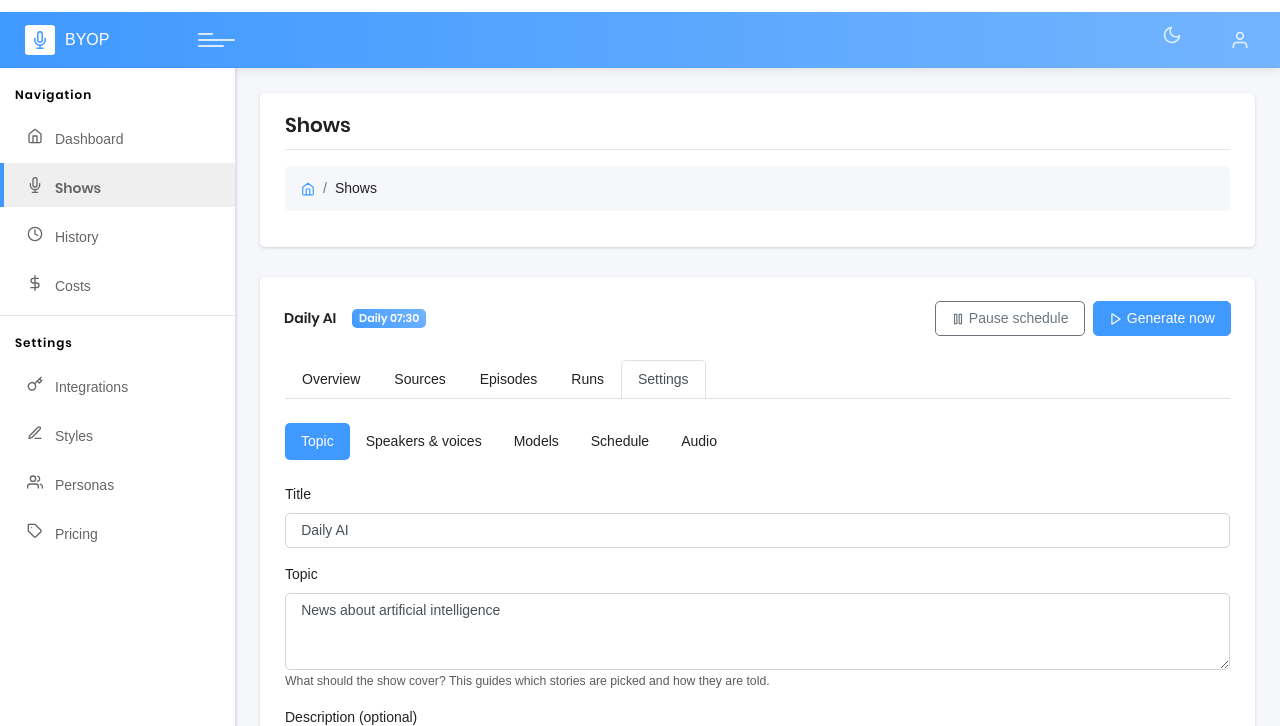
Test: show detail page › settings › turns a schedule on and off
The width and height of the screenshot is (1280, 726).
Expected: the field labelled "Title" is shown, 285,513 -> 1230,548
Click the button "Schedule": [620, 442] box 575,423 -> 665,460
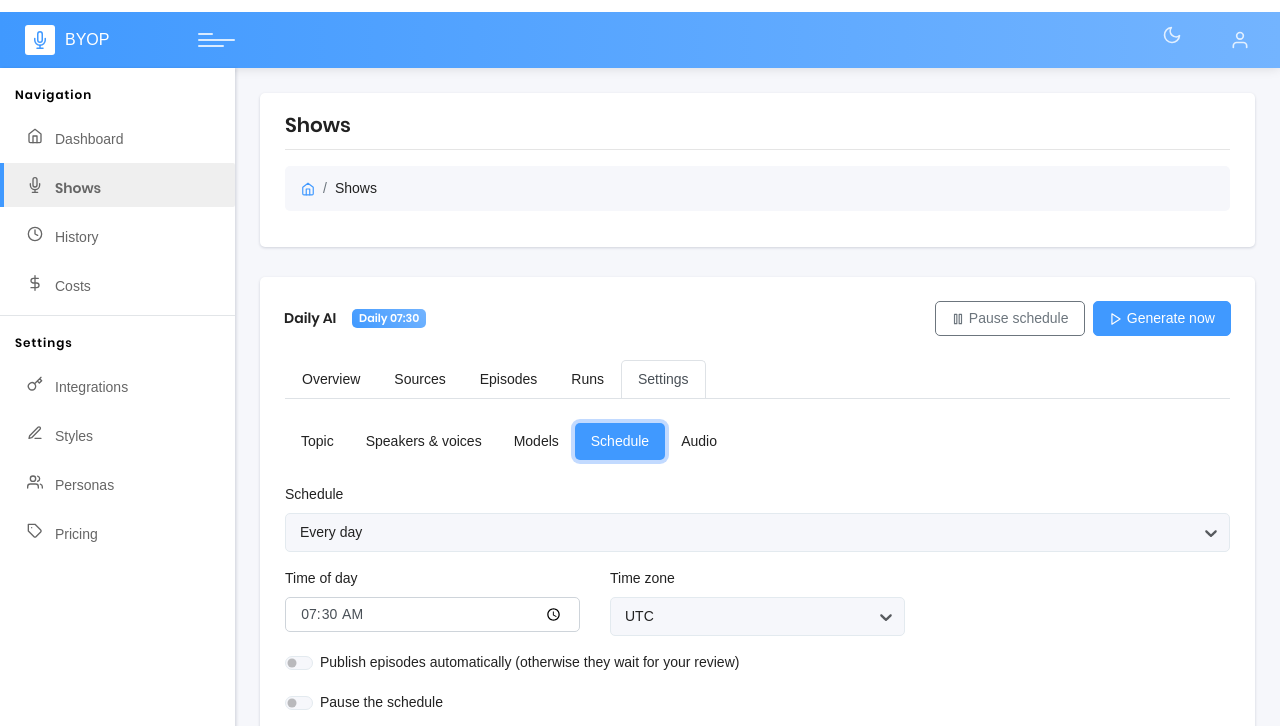
Expected: the time field labelled "Time of day" holds "07:30", 285,597 -> 580,632
Click the dropdown labelled "Schedule": [302, 532] box 300,522 -> 304,543
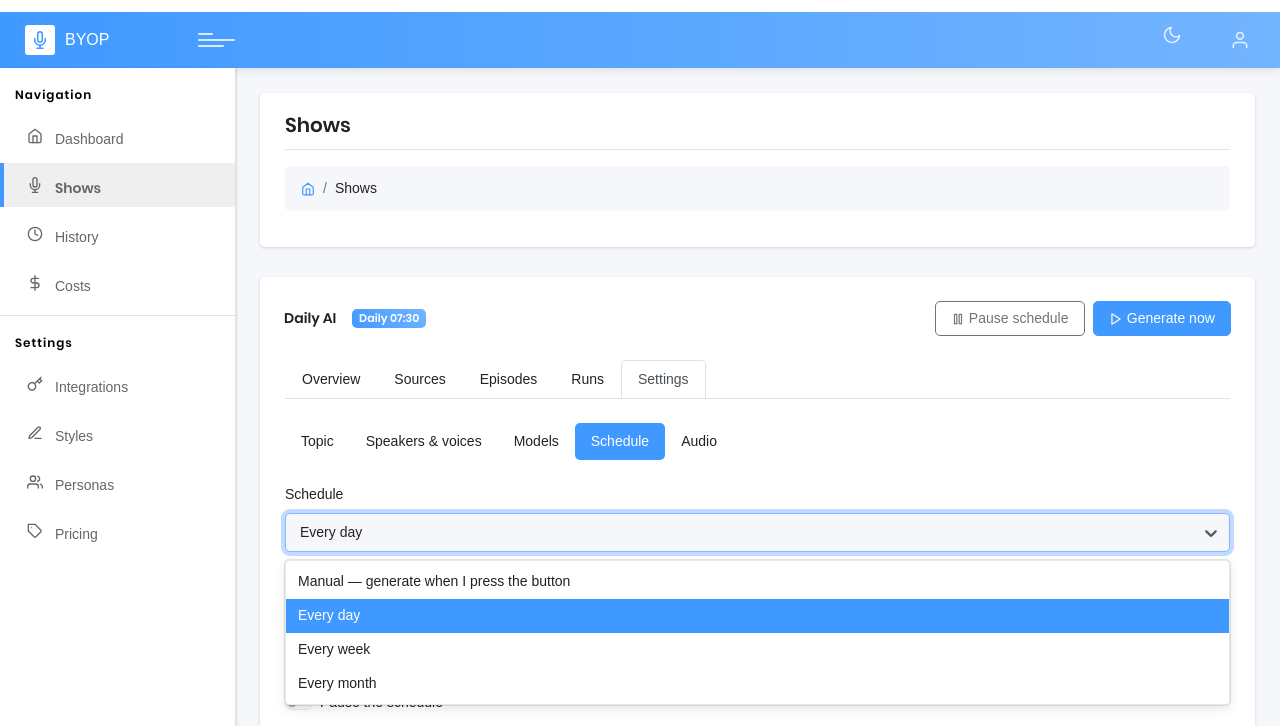
Click the option "Manual — generate when I press the button": [434, 581] box 298,573 -> 570,589
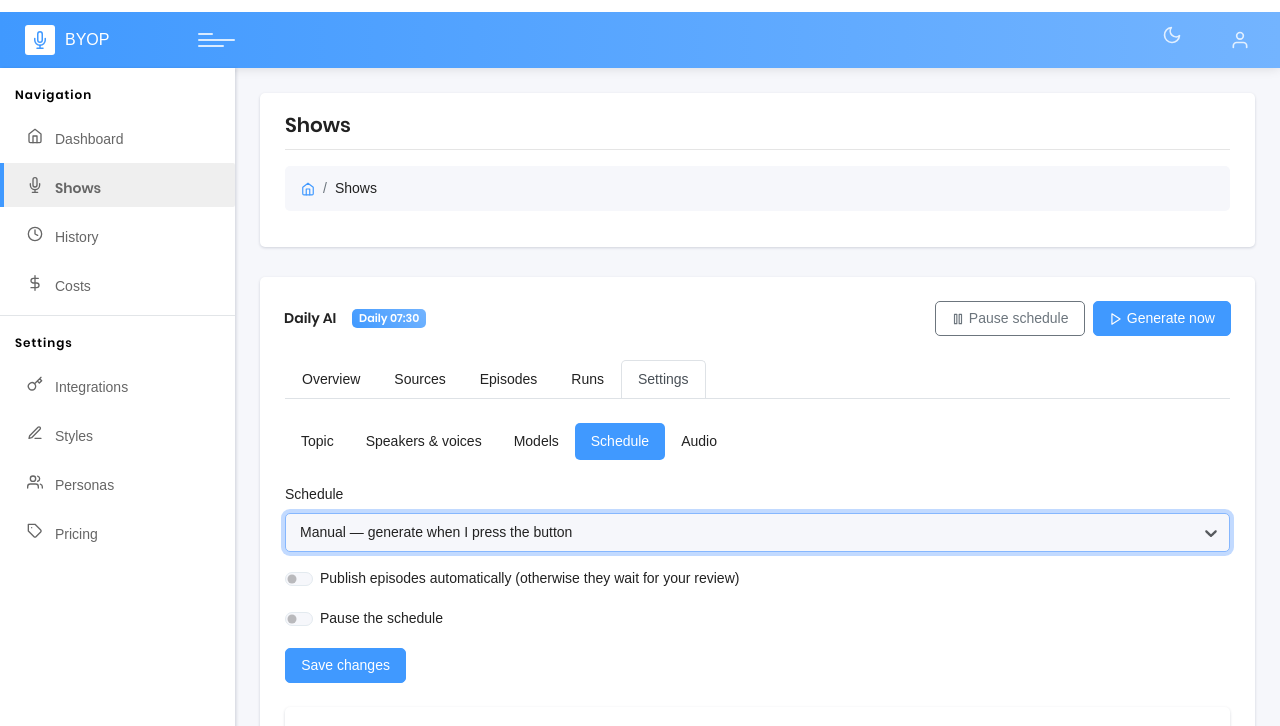
Click the switch labelled "Pause the schedule": [299, 618] box 285,612 -> 313,626
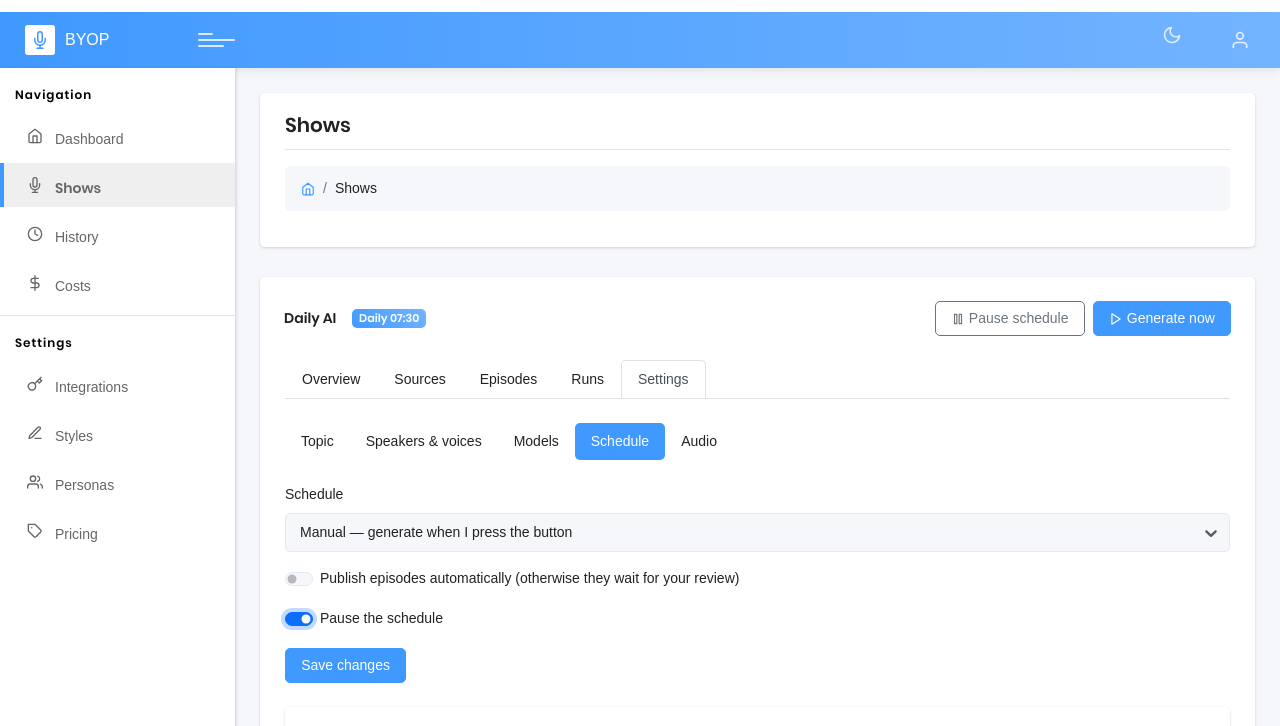
Click the button "Save changes": [346, 666] box 285,648 -> 406,683
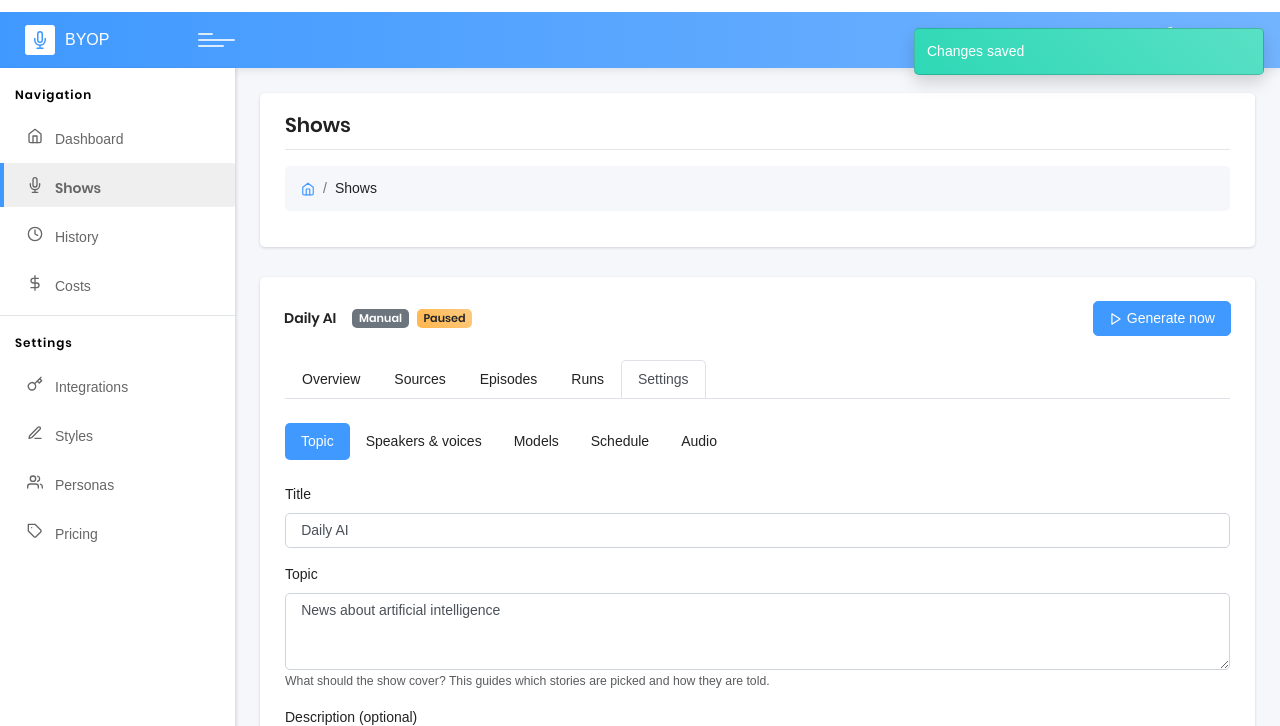
Expected: the text "Changes saved" is shown, 927,43 -> 1024,59
